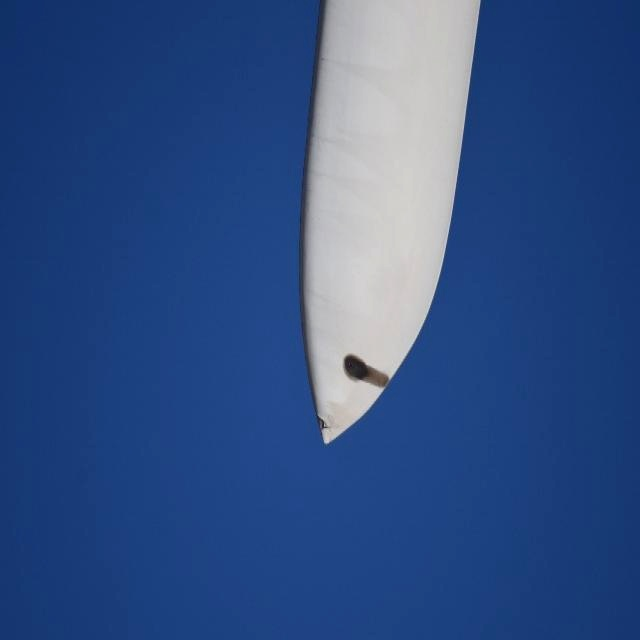Burn Mark: (342, 350, 389, 392)
Coating_defects: (314, 413, 333, 441)
